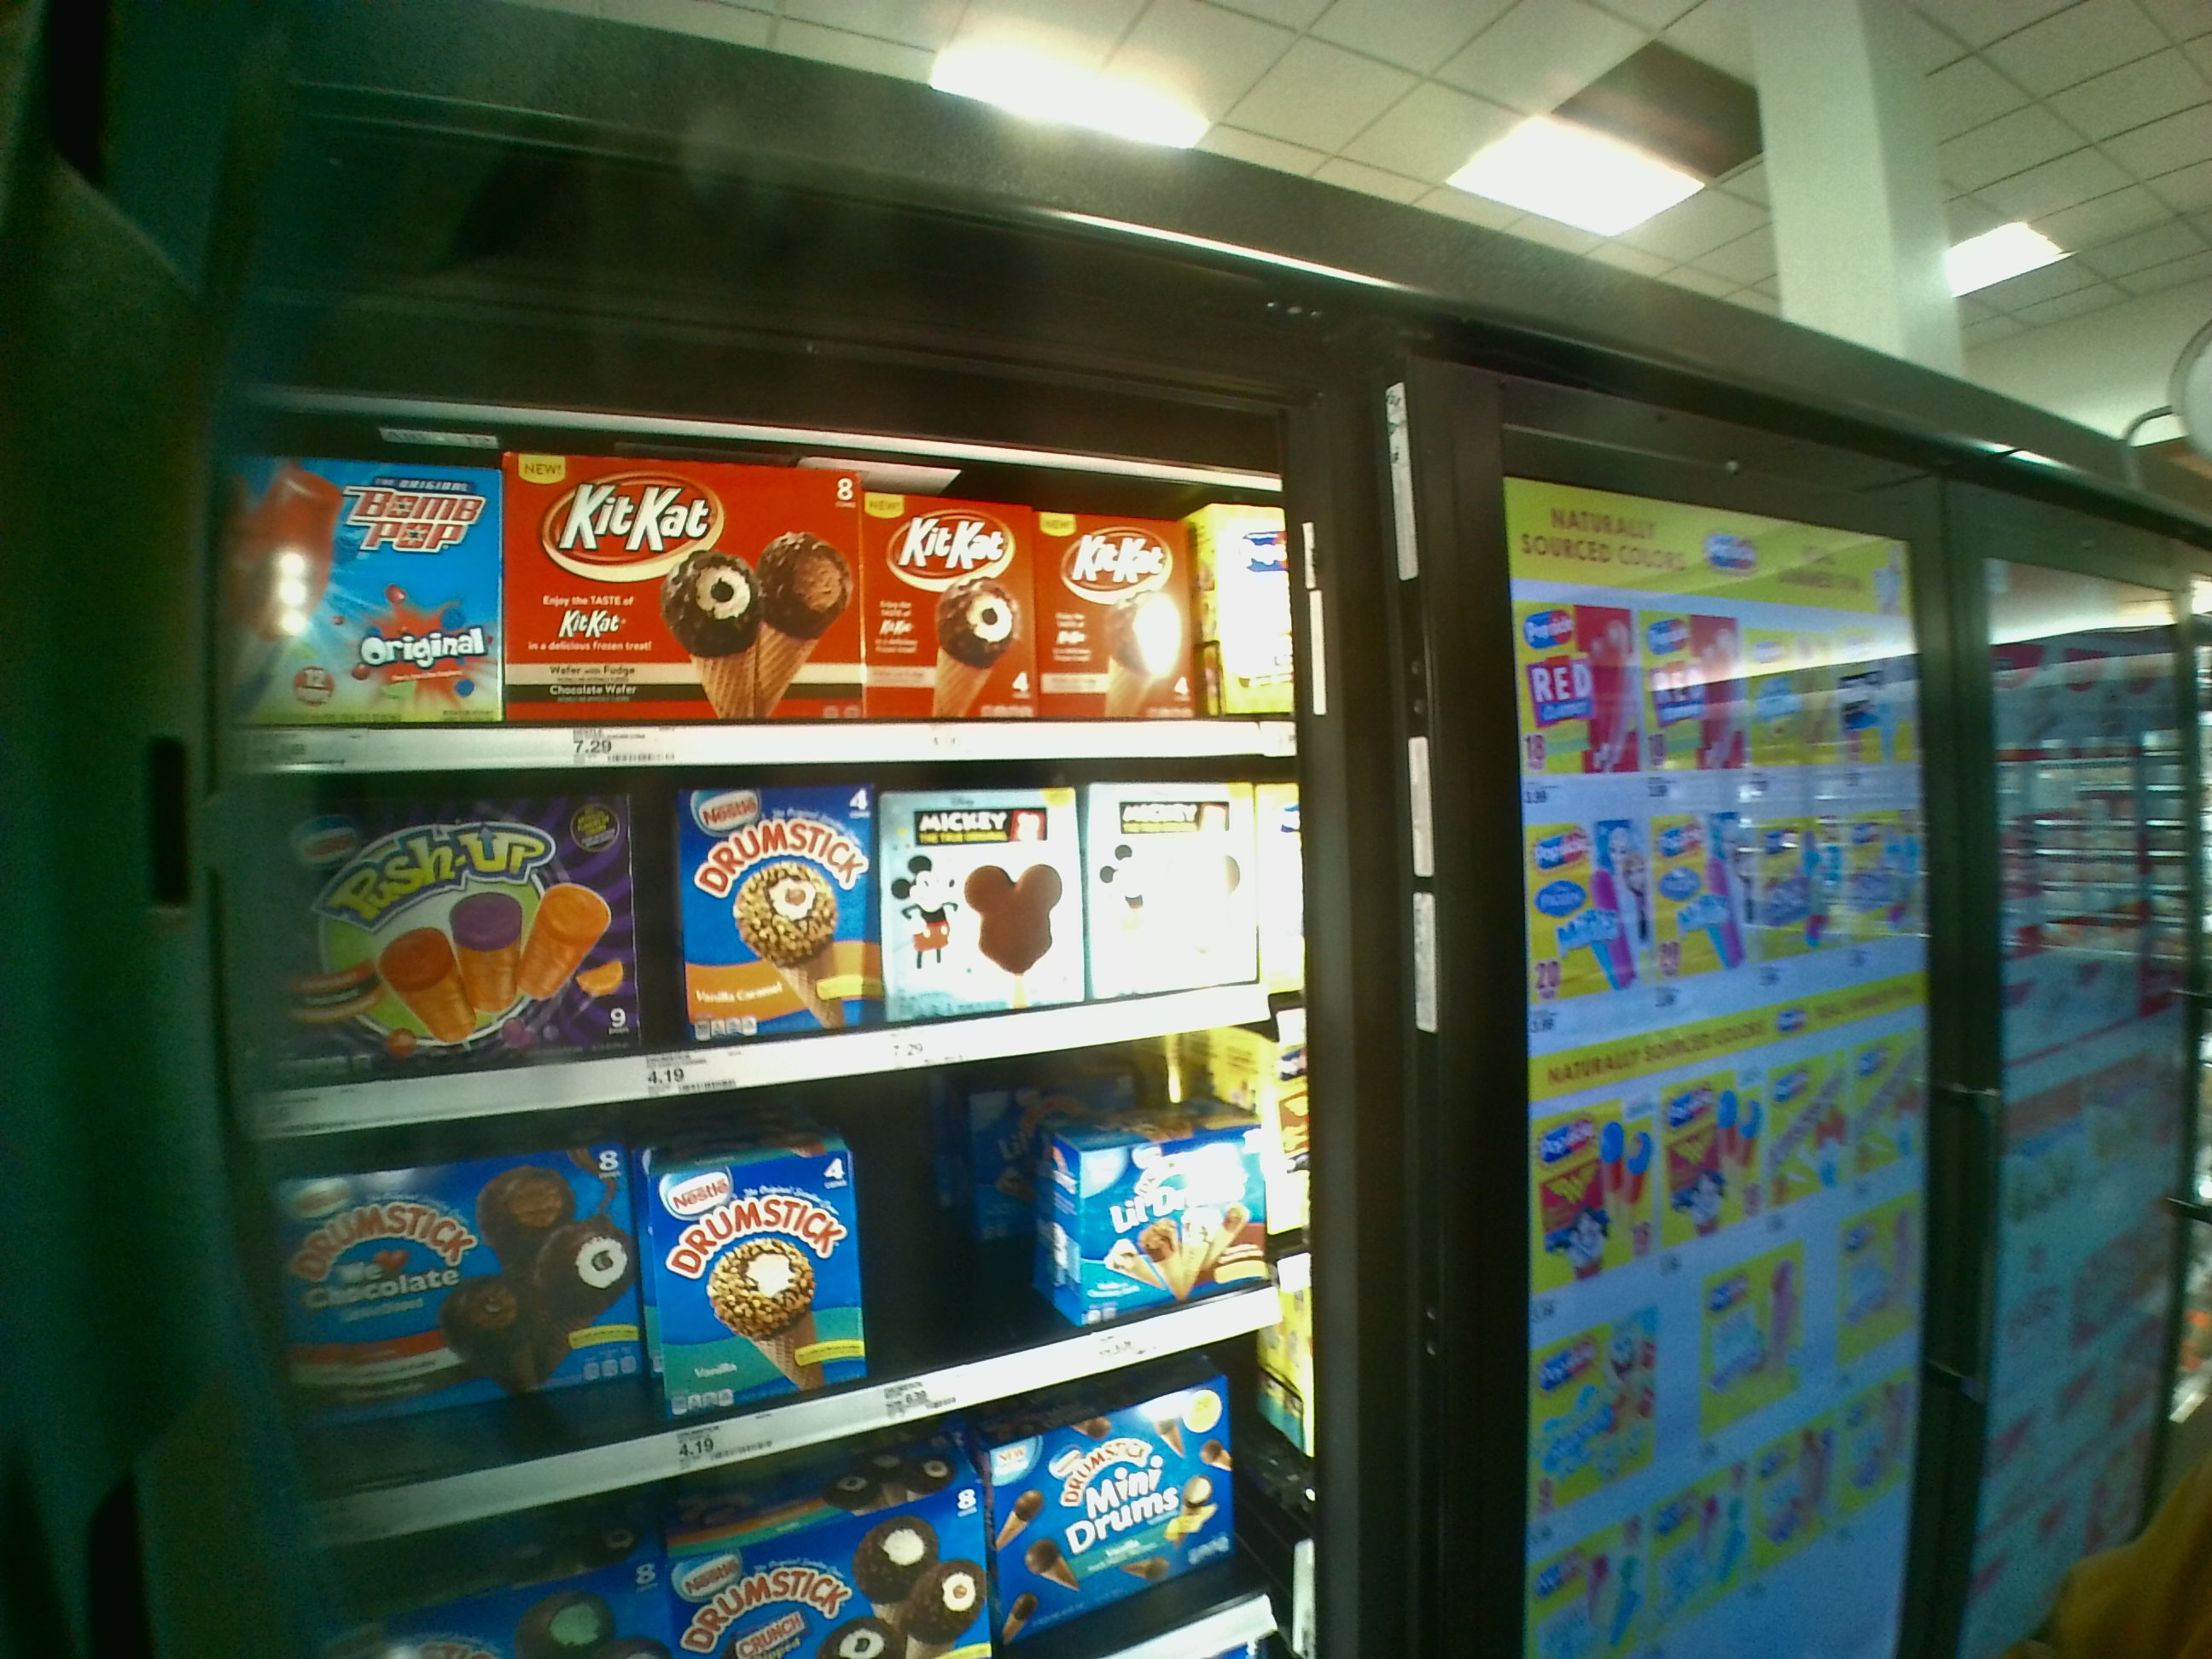shelf: (206, 404, 1303, 767), (235, 1093, 1313, 1424), (214, 786, 1298, 1093)
